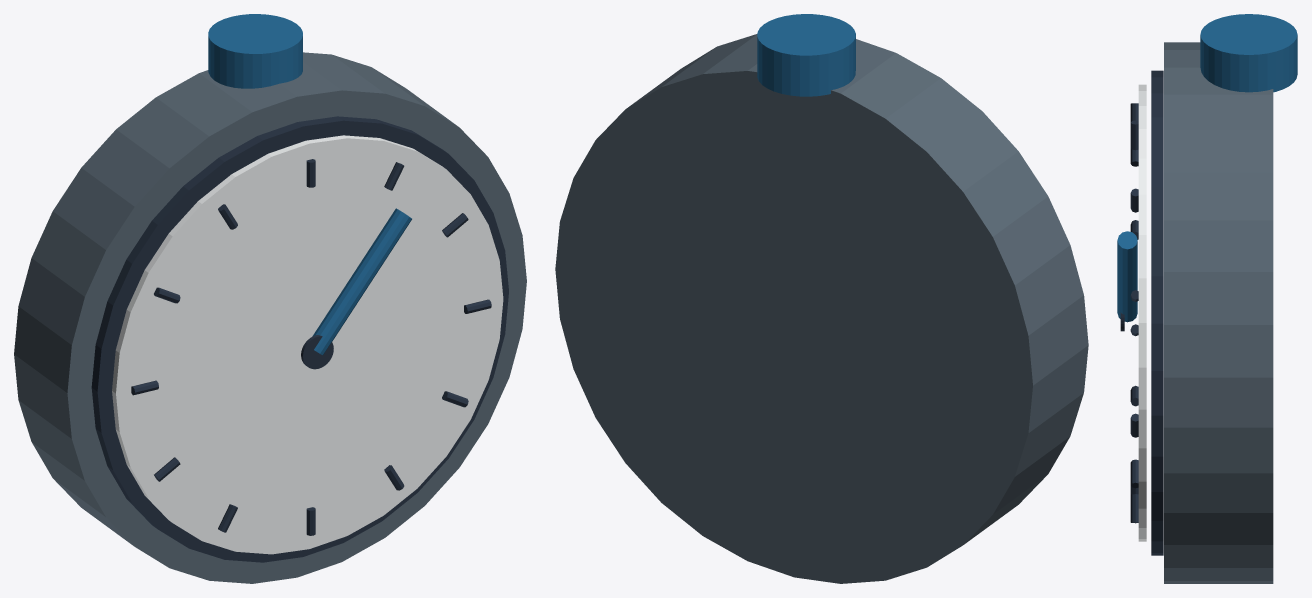
The model's file is timer.glb.
3 views of the same model, side by side, from view 1: azimuth 30°, elevation 25°; view 2: azimuth 150°, elevation 25°; view 3: azimuth 270°, elevation 25° (orthographic). The views are drawn at different scales.
Visible parts, largest first — view 1: dial, housing, bezel, knob, timer hand0, hub; view 2: housing, knob; view 3: housing, knob, bezel, dial, timer hand0, tick 0, tick 5, tick 4.
Part boxes in pixels (<box>): dial: <box>112,135,503,554</box>; housing: <box>14,52,526,583</box>; bezel: <box>91,116,508,562</box>; knob: <box>208,14,302,88</box>; timer hand0: <box>312,208,411,355</box>; hub: <box>301,335,333,369</box>; housing: <box>555,34,1088,583</box>; knob: <box>757,14,855,96</box>; housing: <box>1164,42,1273,583</box>; knob: <box>1200,14,1297,92</box>; bezel: <box>1151,70,1163,555</box>; dial: <box>1138,84,1146,541</box>; timer hand0: <box>1117,231,1137,322</box>; tick 0: <box>1130,120,1138,150</box>; tick 5: <box>1130,494,1138,523</box>; tick 4: <box>1130,459,1138,488</box>.
Bounding box in the file's own units: 1.34 × 1.43 × 0.445.
